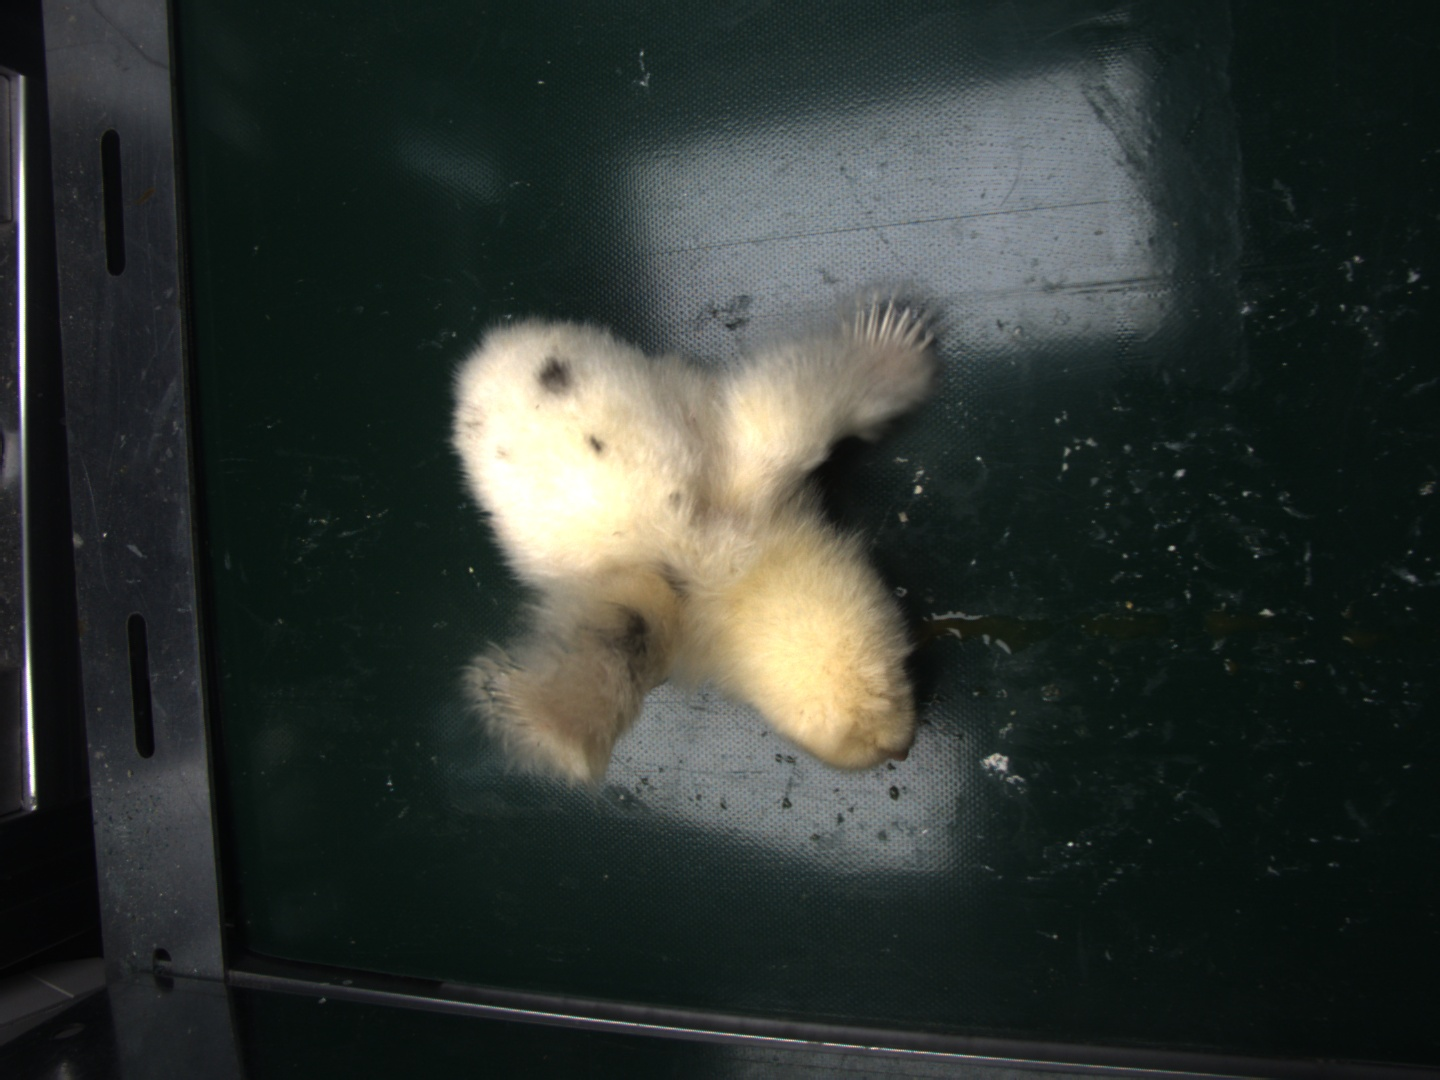male: (842, 302, 933, 357)
